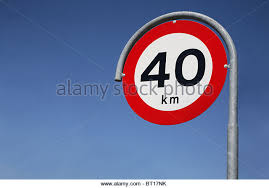Speed_limit_40km: (119, 17, 232, 126)
